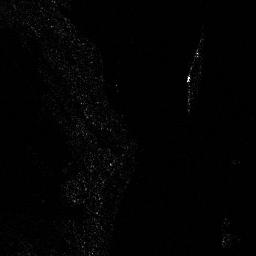ship: (185, 47, 201, 84)
